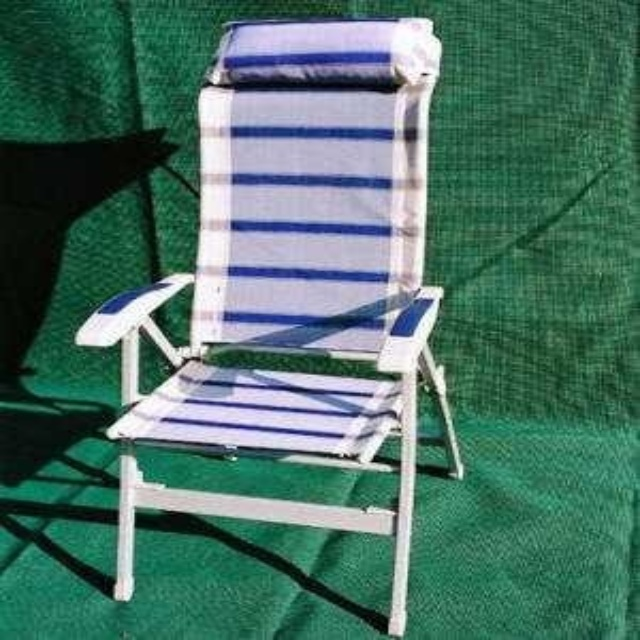obstacle: (77, 18, 461, 635)
